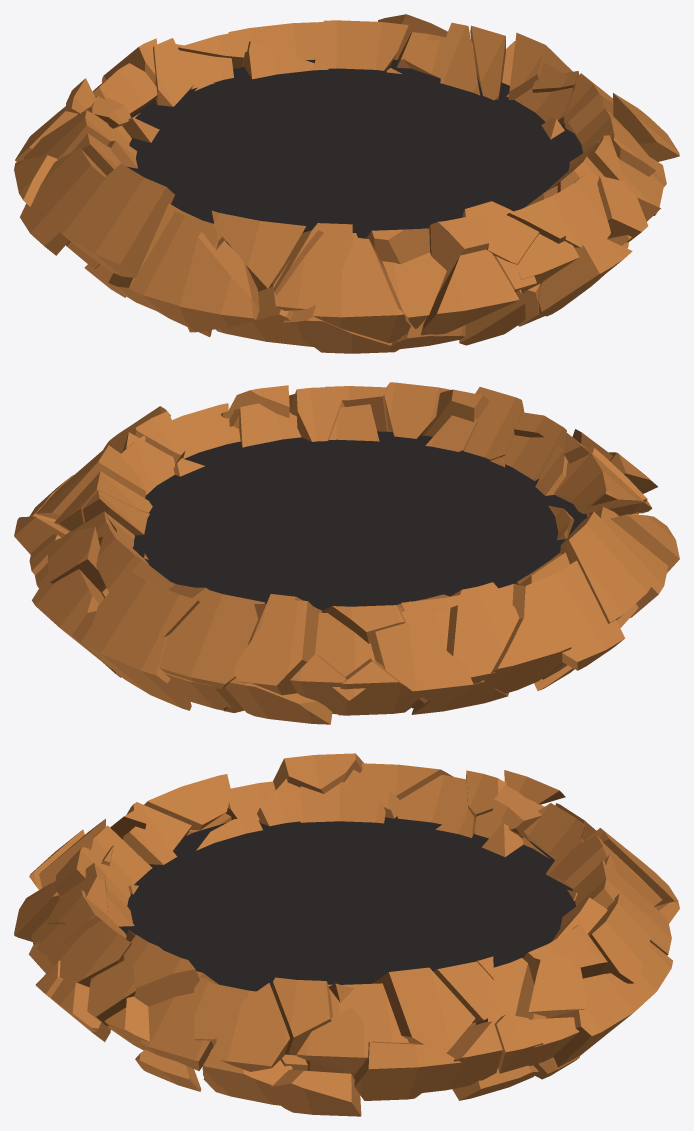
Rendered from nora.fbx.
3 renders of one model, top to bottom at view 1: azimuth 30°, elevation 25°; view 2: azimuth 150°, elevation 25°; view 3: azimuth 270°, elevation 25°, orthographic.
Visible parts, largest first — view 1: Piece_0_1, Объект_Диск; view 2: Piece_0_1, Объект_Диск; view 3: Piece_0_1, Объект_Диск.
Boxes of the visible parts, <box> form: Piece_0_1: <box>14,14,679,353</box>; Объект_Диск: <box>127,59,582,248</box>; Piece_0_1: <box>14,382,679,724</box>; Объект_Диск: <box>133,431,587,610</box>; Piece_0_1: <box>14,753,679,1116</box>; Объект_Диск: <box>119,816,575,991</box>.
Bounding box in the file's own units: 508 × 119 × 507.
